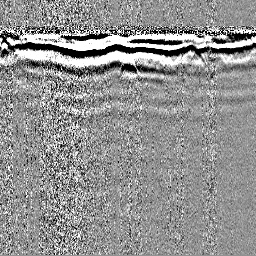cavity: (116, 53, 140, 74)
